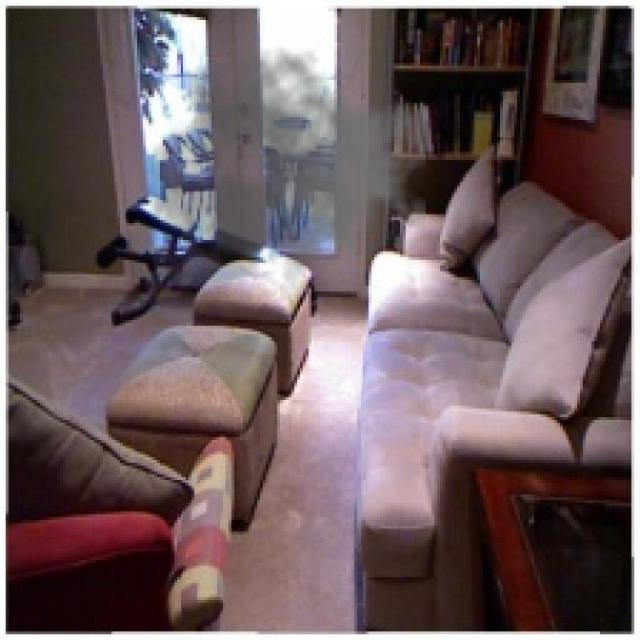smoke: (146, 37, 426, 303)
